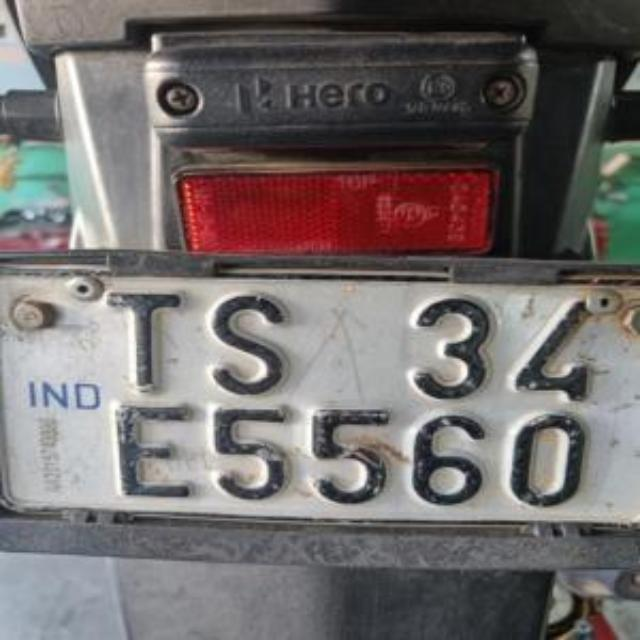License Plate: (90, 271, 610, 519)
